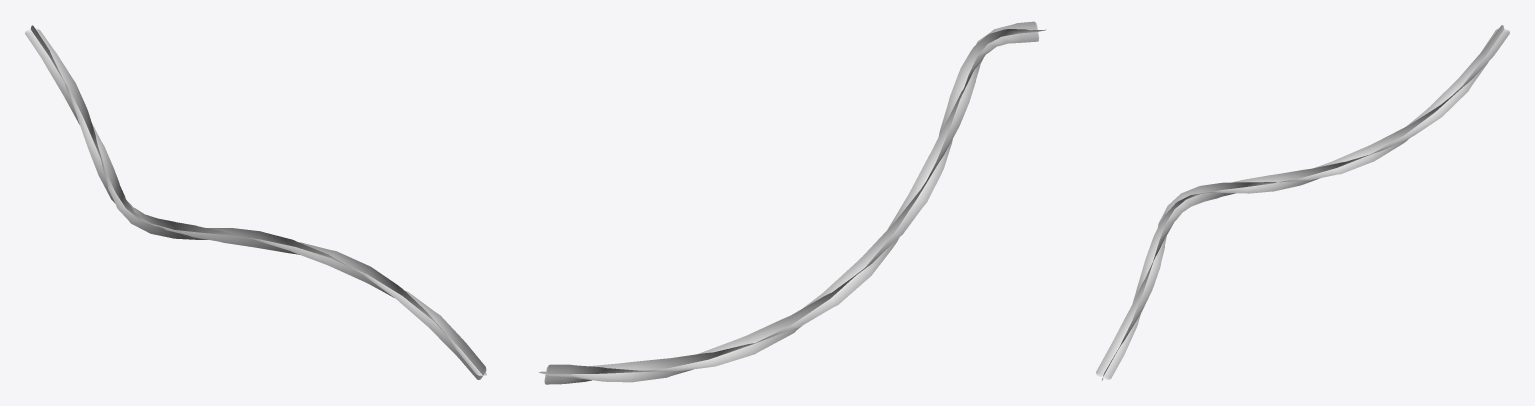
Rendered from xuanzhuan.FBX.
The picture shows the model from 3 angles, left to right: view 1: azimuth 30°, elevation 25°; view 2: azimuth 150°, elevation 25°; view 3: azimuth 330°, elevation 25°; orthographic projection. The views are drawn at different scales.
Parts seen in each view (by area): view 1: shengzi; view 2: shengzi; view 3: shengzi.
Part boxes in pixels (x1=…): shengzi: x1=25, y1=25, x2=486, y2=379; shengzi: x1=539, y1=21, x2=1045, y2=384; shengzi: x1=1096, y1=25, x2=1509, y2=380.
Bounding box in the file's own units: 0.1439 × 0.1139 × 0.9243.
